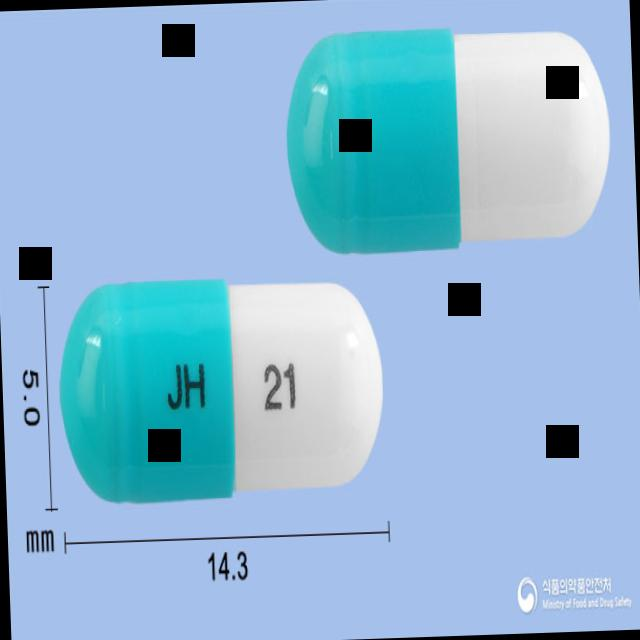Flunazole Cap: (54, 271, 388, 503)
